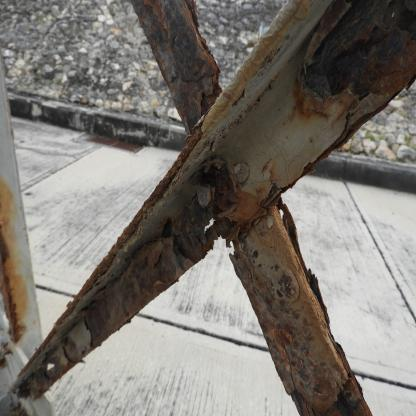Grado3: (315, 0, 415, 118), (135, 0, 224, 110), (185, 171, 247, 259), (105, 266, 171, 312)
